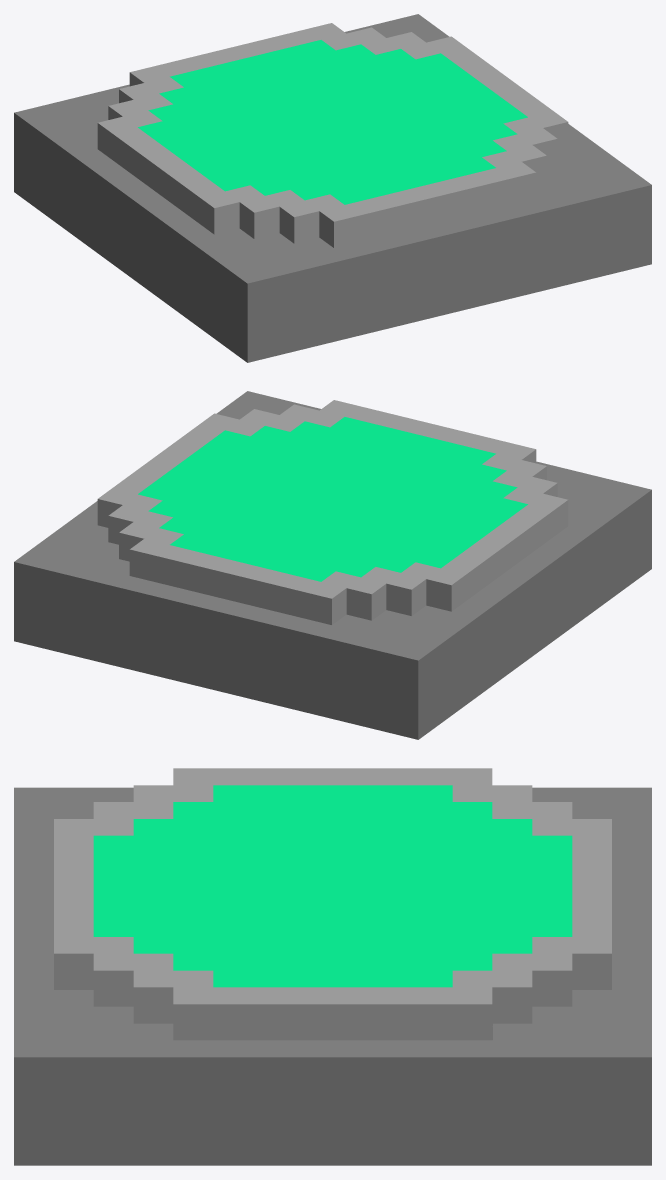
File: itemspawner.glb
3 views of the same model, one above another, from view 1: azimuth 30°, elevation 25°; view 2: azimuth 150°, elevation 25°; view 3: azimuth 270°, elevation 25° (orthographic). The views are drawn at different scales.
Visible parts, largest first — view 1: Untitled; view 2: Untitled; view 3: Untitled.
Part boxes in pixels (x1,y1,x2,y2): Untitled: (14,14,651,362); Untitled: (14,391,651,739); Untitled: (14,768,651,1165).
Bounding box in the file's own units: 2 × 0.5 × 2.
1 material, 1 textured.
